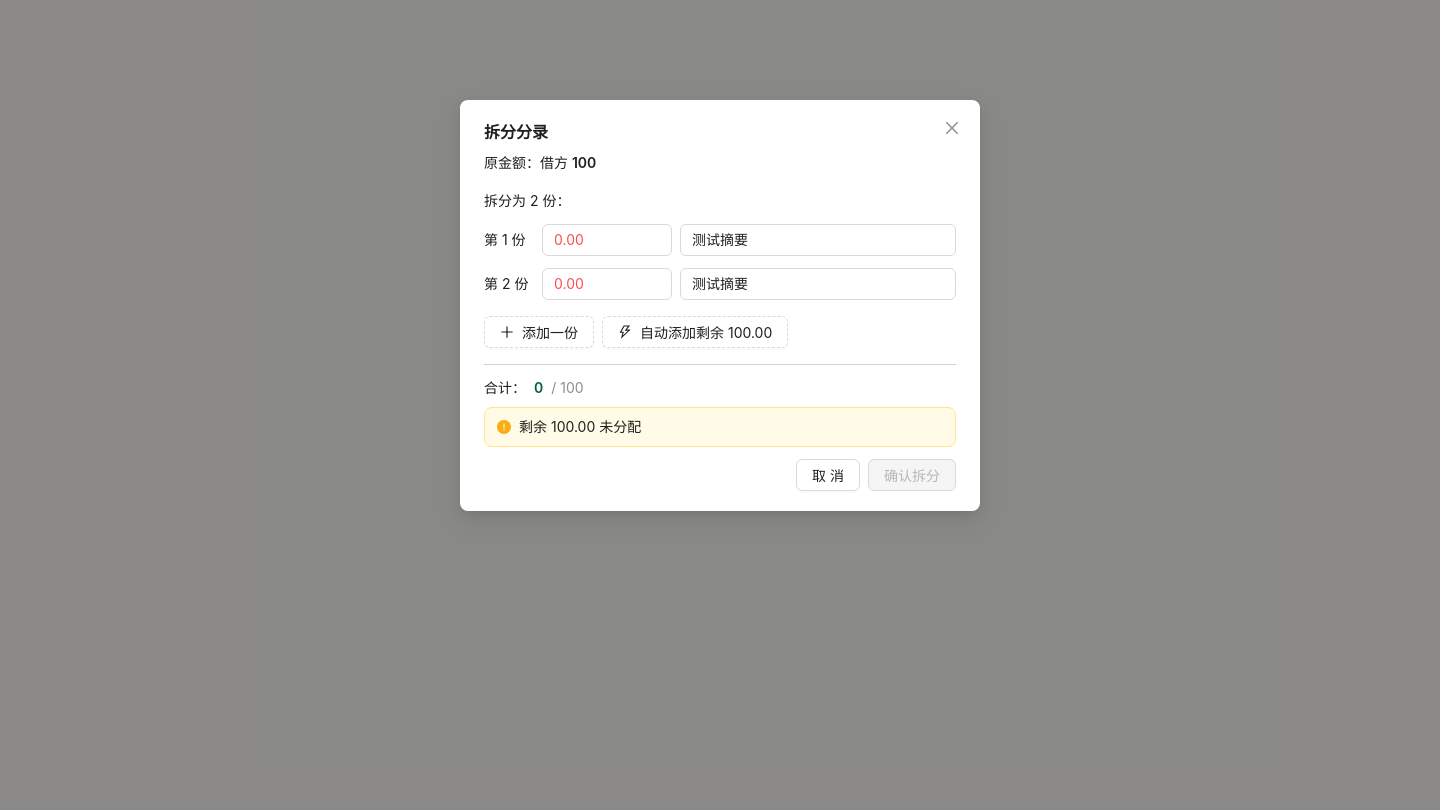
SplitEntryModal › overLimit via round2 › shows error alert when total exceeds original amount
Replace the text in the 1st number field with "60" at (607, 240), box top-left (543, 225), bottom-right (671, 255)
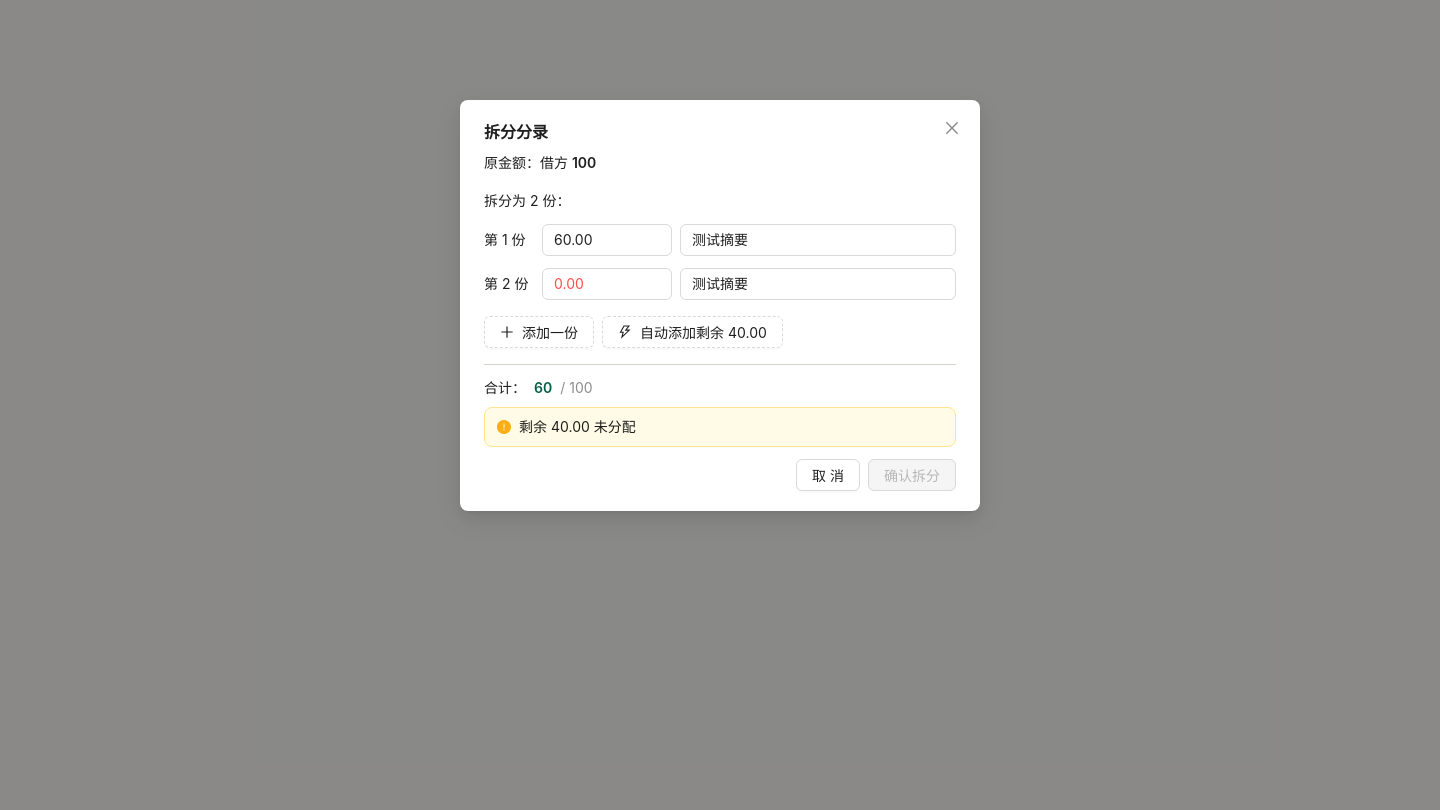
Replace the text in the 2nd number field with "50" at (607, 284), box top-left (543, 269), bottom-right (671, 299)
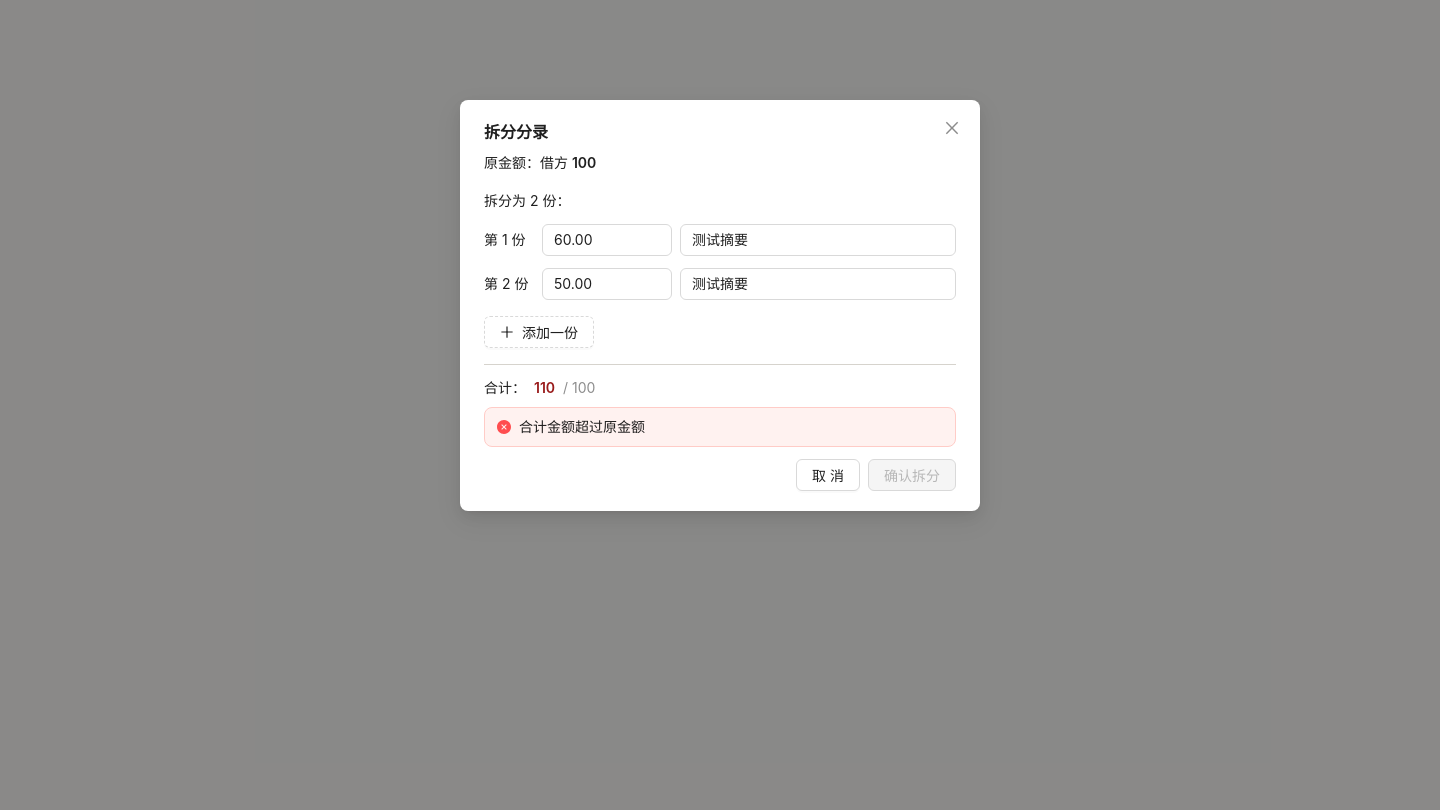
Expected: the text "合计金额超过原金额" is shown, top-left (519, 418), bottom-right (645, 435)
